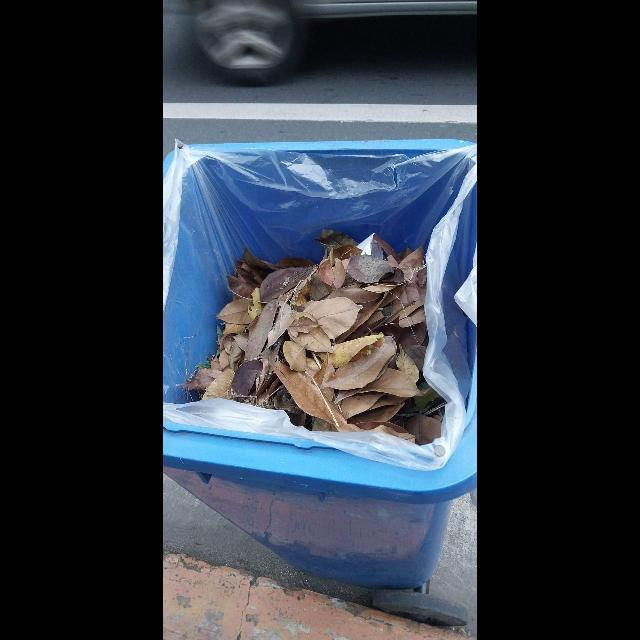biowaste: (184, 230, 447, 446)
